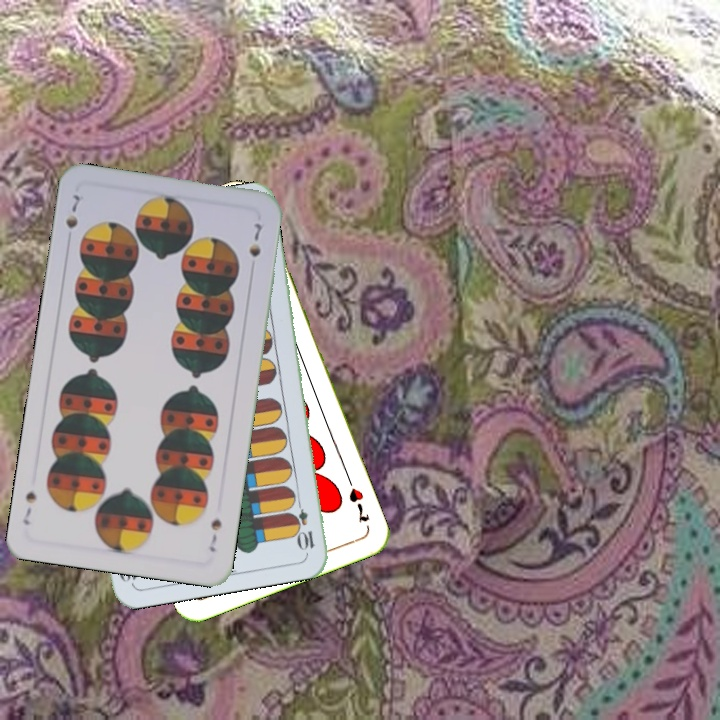E10: (291, 494, 317, 553)
H7: (343, 473, 372, 525)
S7: (61, 190, 87, 231), (205, 515, 225, 555)
